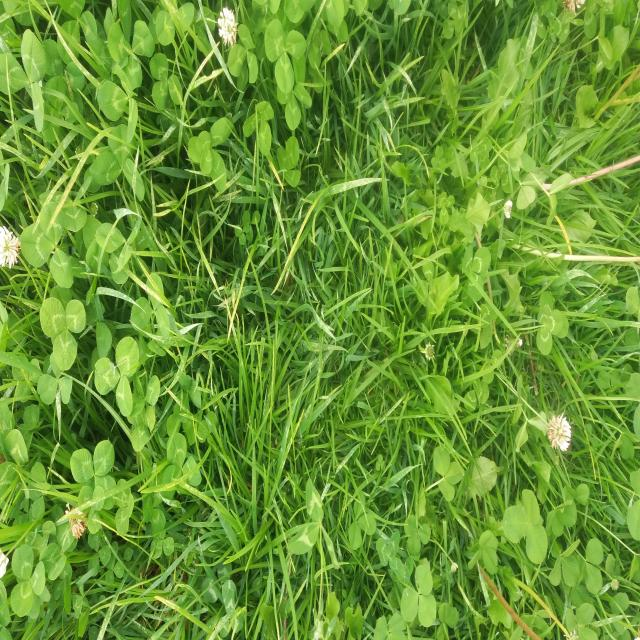Four Leaf Clover: (188, 117, 233, 193)
